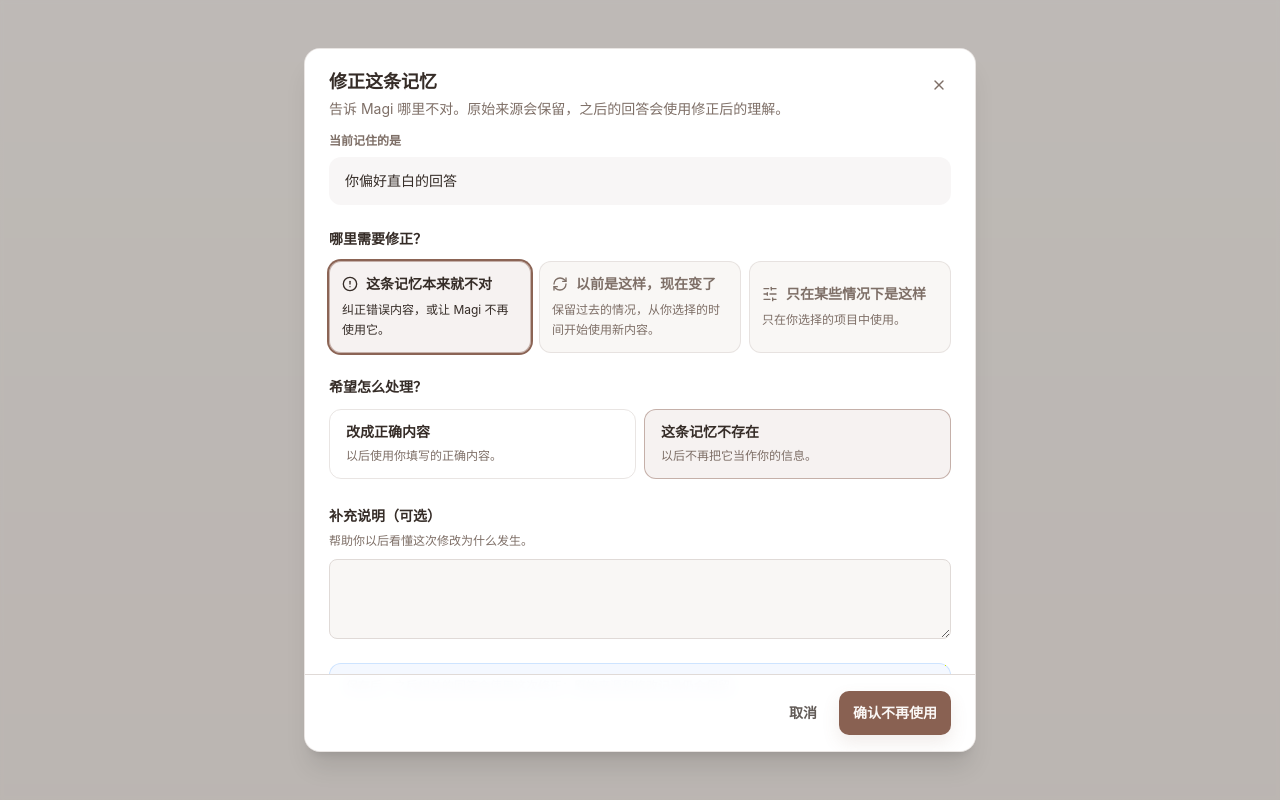
Test case: MemoryCorrectionDialog request safety › describes rejecting a pending understanding without claiming it was replaced
Click the button "确认不再使用": (895, 713) left=839, top=691, right=951, bottom=735
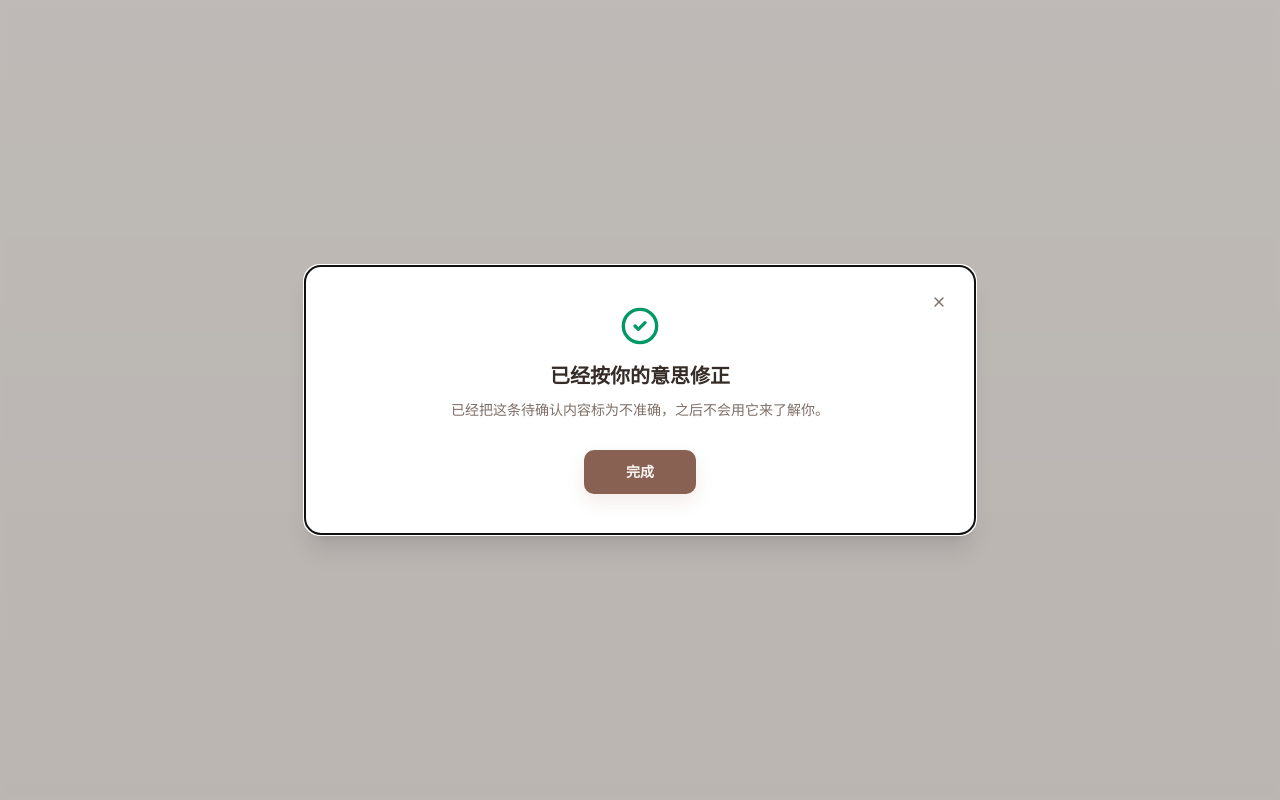
Now the text "已经把这条待确认内容标为不准确，之后不会用它来了解你。" is shown, box left=451, top=401, right=829, bottom=418
